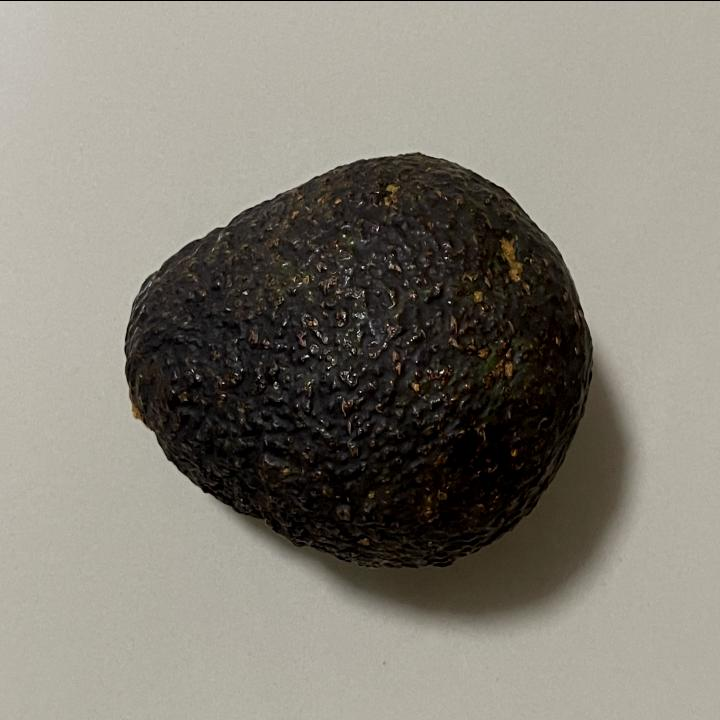Level2: (118, 140, 600, 580)
